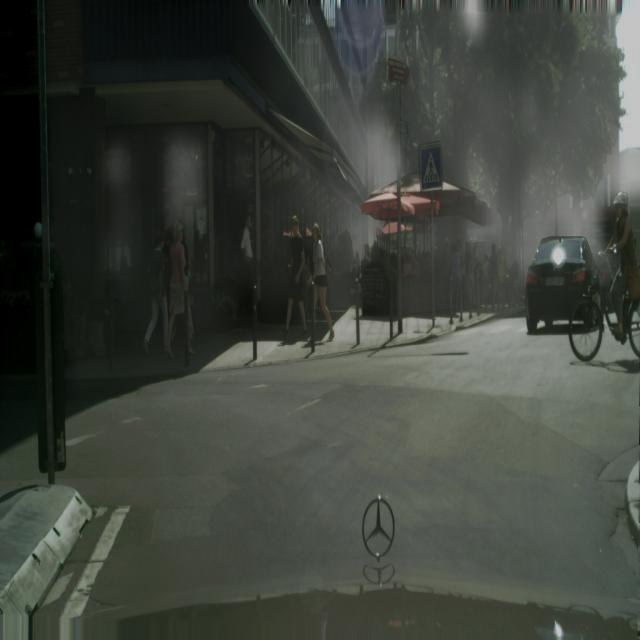car: (568, 183, 640, 364)
person: (143, 231, 172, 359), (168, 220, 194, 362), (280, 214, 308, 343), (308, 221, 335, 344), (239, 211, 255, 321), (448, 239, 464, 322), (488, 242, 498, 309), (497, 244, 506, 309)
truck: (525, 236, 597, 332)
